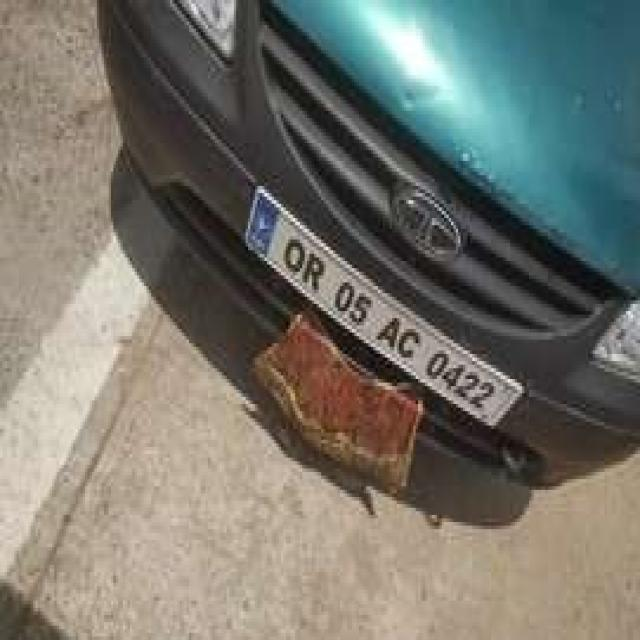Plate: (242, 180, 523, 426)
